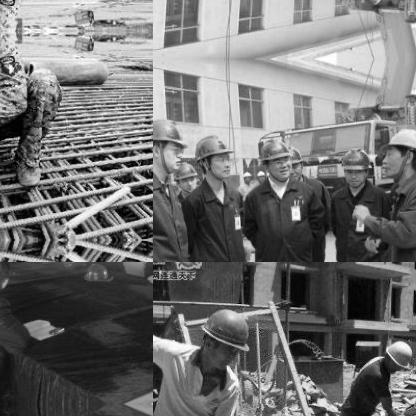Helmet: (198, 304, 254, 366), (190, 130, 233, 180), (380, 123, 415, 182), (153, 114, 184, 172), (256, 136, 292, 176), (338, 146, 372, 188), (382, 339, 414, 369), (172, 160, 198, 192), (286, 143, 304, 181)
